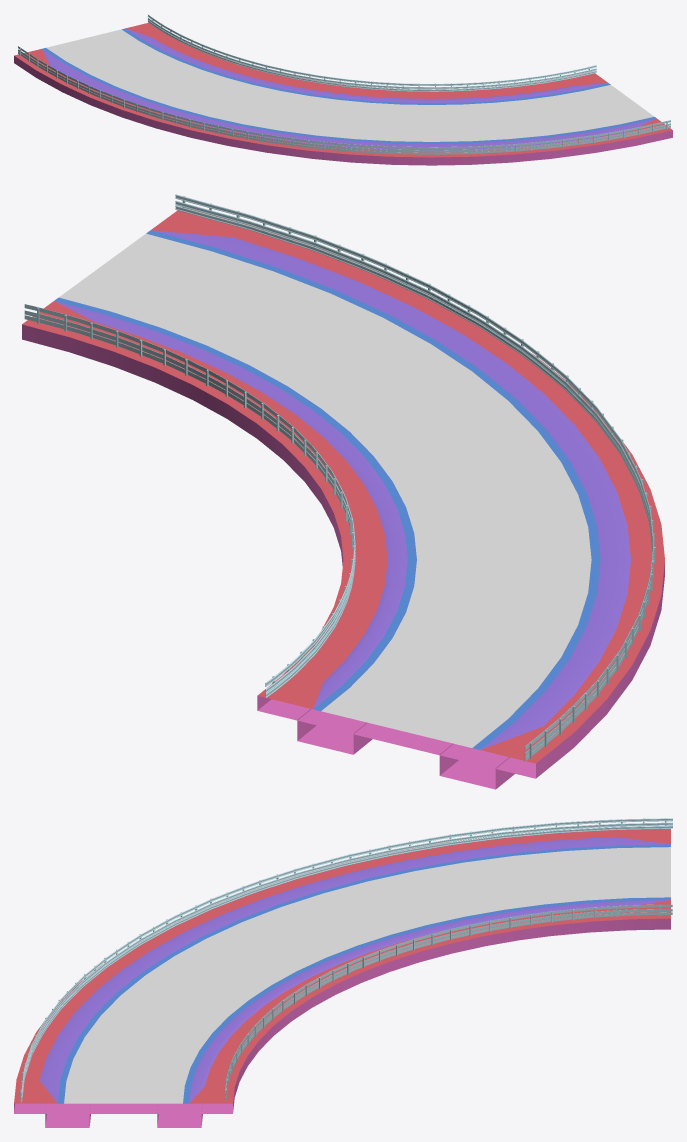
The model's file is TimTestTurn.fbx.
The picture shows the model from 3 angles, top to bottom: view 1: azimuth 30°, elevation 25°; view 2: azimuth 150°, elevation 25°; view 3: azimuth 270°, elevation 25°; orthographic projection. The views are drawn at different scales.
Parts seen in each view (by area): view 1: RoadSmallTurnBig, RailingSmallTurnBig; view 2: RoadSmallTurnBig, RailingSmallTurnBig; view 3: RoadSmallTurnBig, RailingSmallTurnBig.
Boxes of the visible parts, box(x1,y1,x2,y2) form: RoadSmallTurnBig: box(14, 23, 672, 165); RailingSmallTurnBig: box(18, 14, 670, 155); RoadSmallTurnBig: box(22, 207, 664, 789); RailingSmallTurnBig: box(24, 194, 655, 761); RoadSmallTurnBig: box(14, 827, 670, 1127); RailingSmallTurnBig: box(20, 818, 672, 1103).
Bounding box in the file's own units: 6017 × 353 × 6017.
